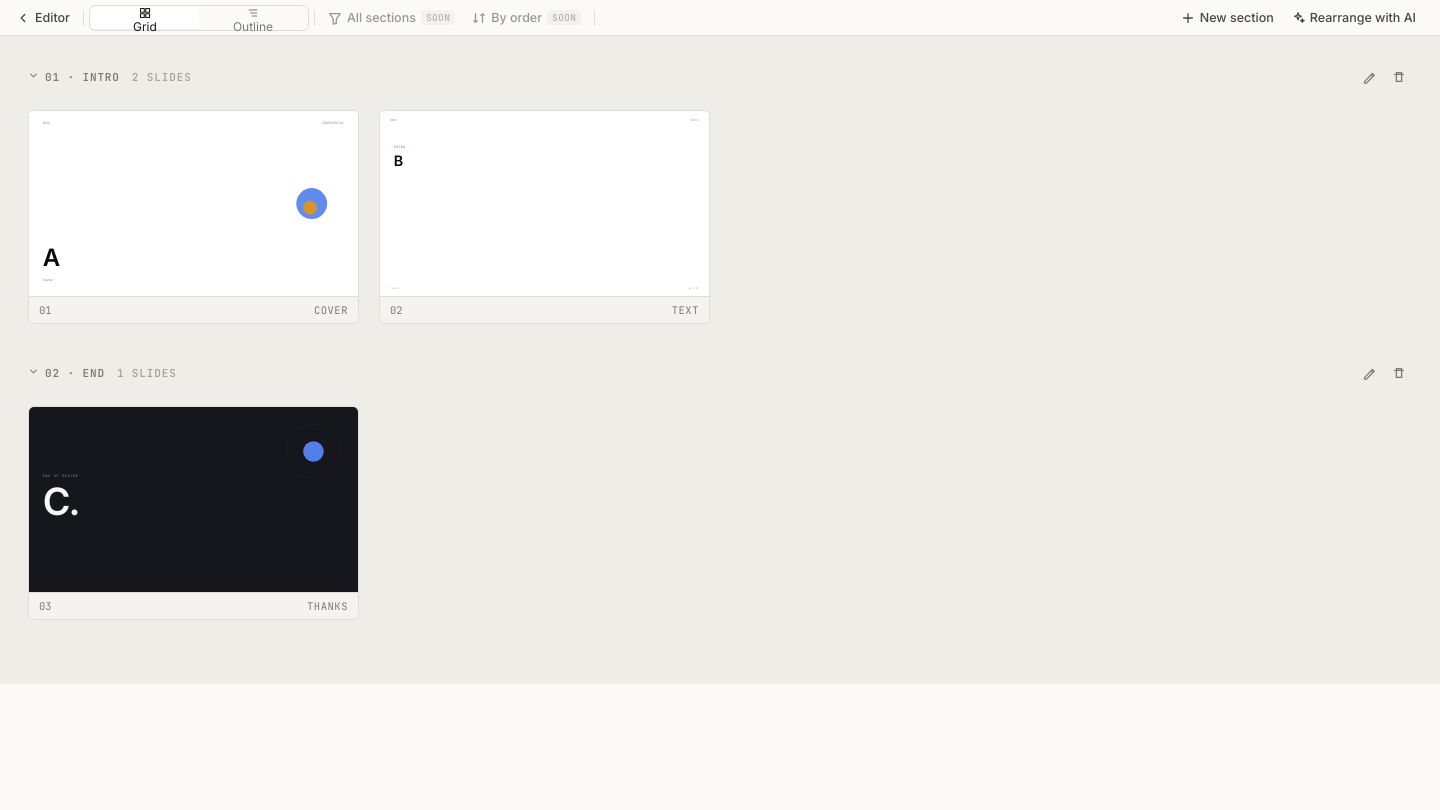
Test: SorterView — Rearrange with AI › maps a classified LLM error to its actionable message
Click the button "Rearrange with AI". click: (1353, 18)
box: [1283,4,1424,30]
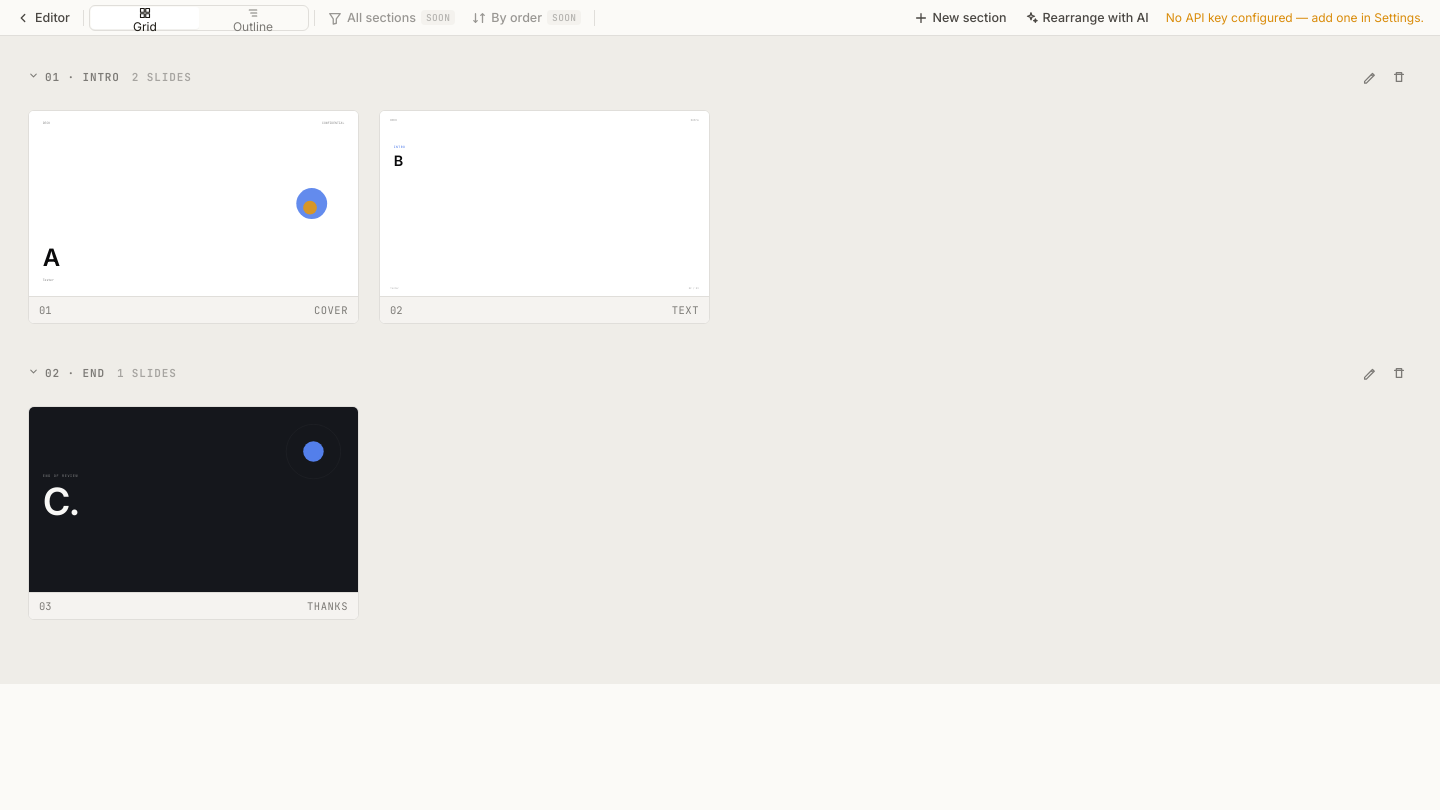
Expected: the text "No API key configured — add one in Settings." is shown, [1166,10,1424,25]
